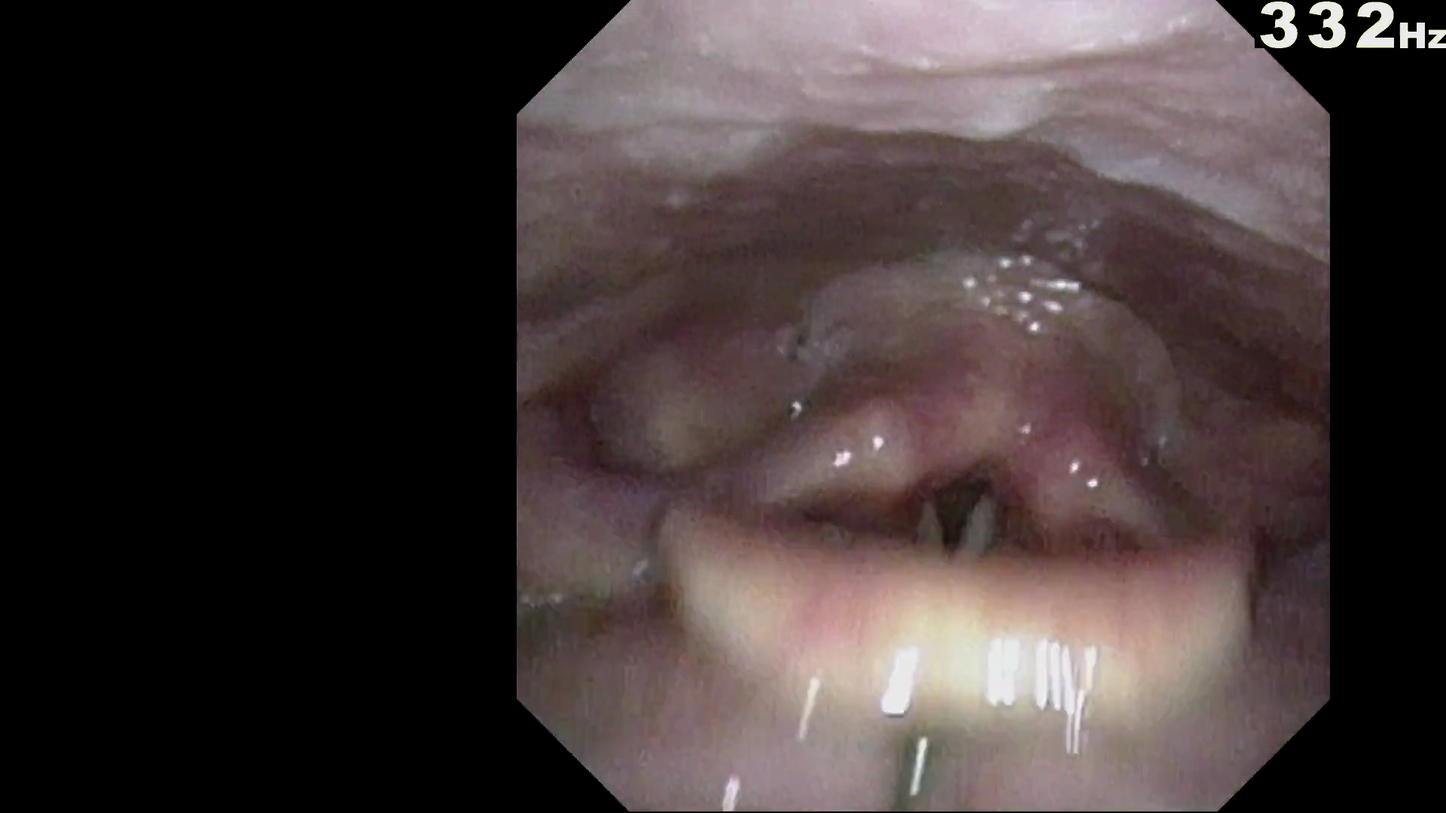epiglottis: (665, 490, 1244, 719)
trachea: (888, 430, 1039, 587)
